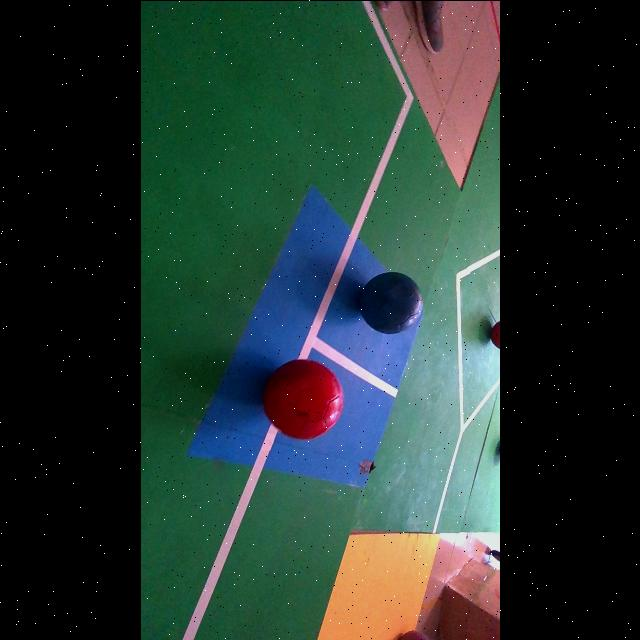B: (358, 272, 423, 334)
P: (399, 630, 429, 640)
R: (263, 359, 343, 439)
